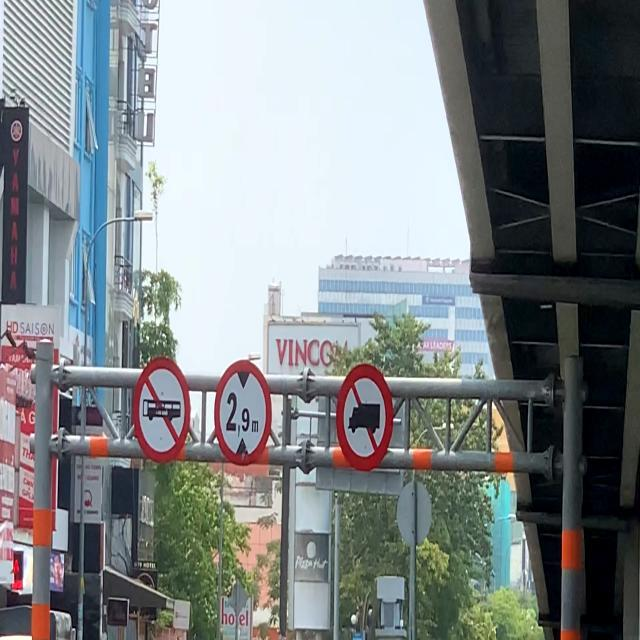bien_cam: (333, 362, 392, 472), (210, 359, 269, 467), (132, 356, 192, 462)
